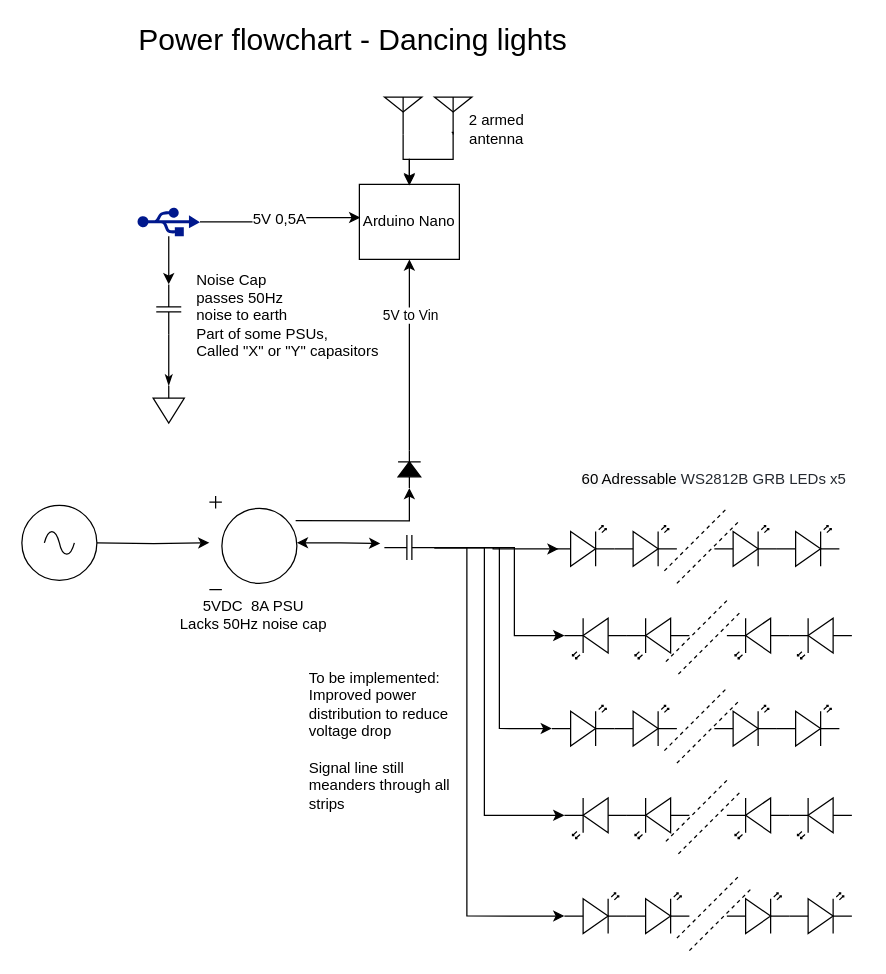
The diagram is 886 pixels wide and 974 high, and some of its shapes have lost their labels. The centre of each missing label's shape, as x and y in pixels:
230V: the point at 59,542
large cap power reservoir: the point at 408,547
